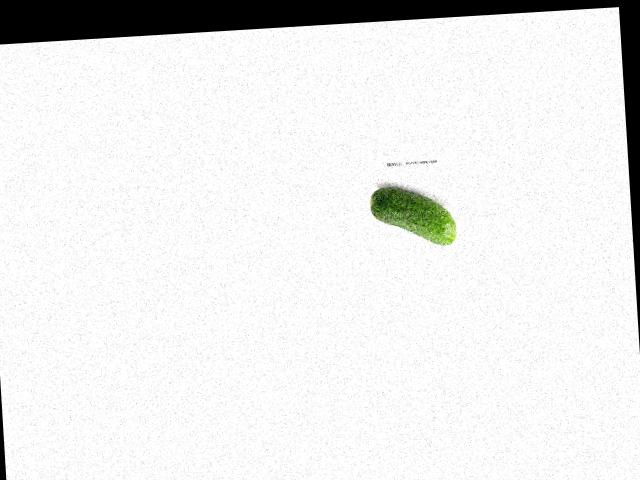cucumber: (369, 182, 456, 249)
